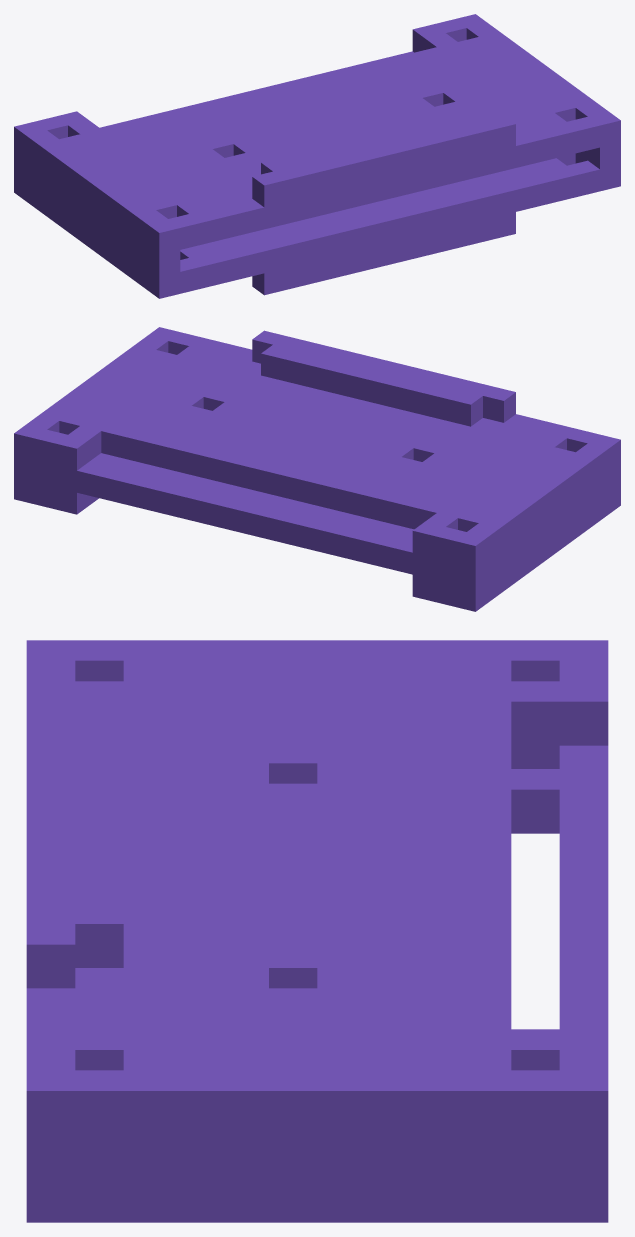
Rendered from Cassette00_Case.gltf.
3 views of the same model, one above another, from view 1: azimuth 30°, elevation 25°; view 2: azimuth 150°, elevation 25°; view 3: azimuth 270°, elevation 25° (orthographic). The views are drawn at different scales.
Bounding box in the file's own units: 22 × 5 × 12.
